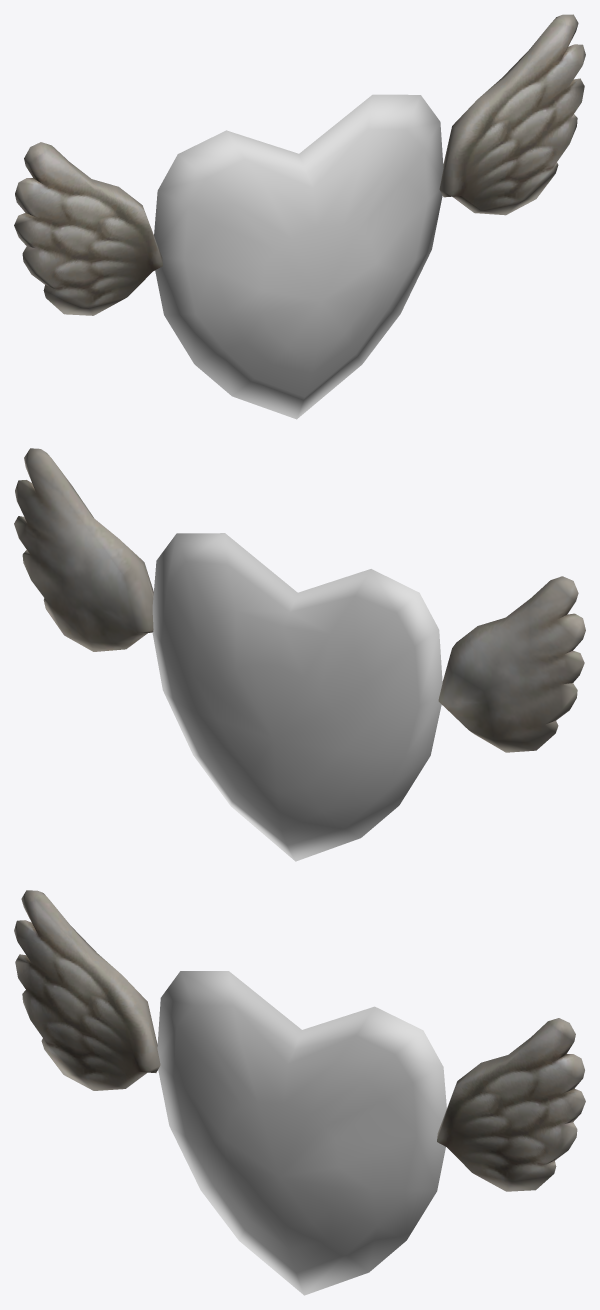
Rendered from coeurUltime.fbx.
3 views of the same model, one above another, from view 1: azimuth 30°, elevation 25°; view 2: azimuth 150°, elevation 25°; view 3: azimuth 330°, elevation 25° (orthographic).
Parts seen in each view (by area): view 1: Sphere, polygon4; view 2: Sphere, polygon4; view 3: Sphere, polygon4.
Boxes of the visible parts, bbox=[...] form: Sphere: bbox=[154, 94, 443, 419]; polygon4: bbox=[14, 14, 585, 315]; Sphere: bbox=[152, 533, 442, 861]; polygon4: bbox=[14, 448, 585, 752]; Sphere: bbox=[157, 971, 446, 1295]; polygon4: bbox=[14, 890, 585, 1191].
Size of the model in its own units: 327 by 189 by 46.31.
